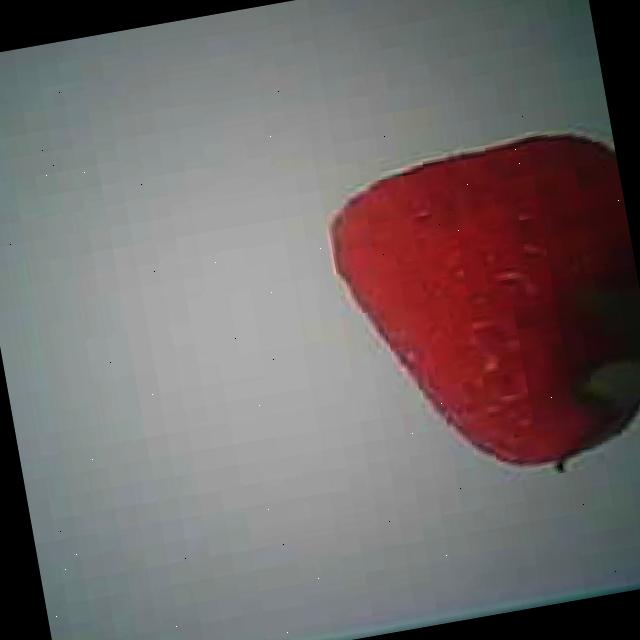strawberry: (316, 127, 640, 492)
